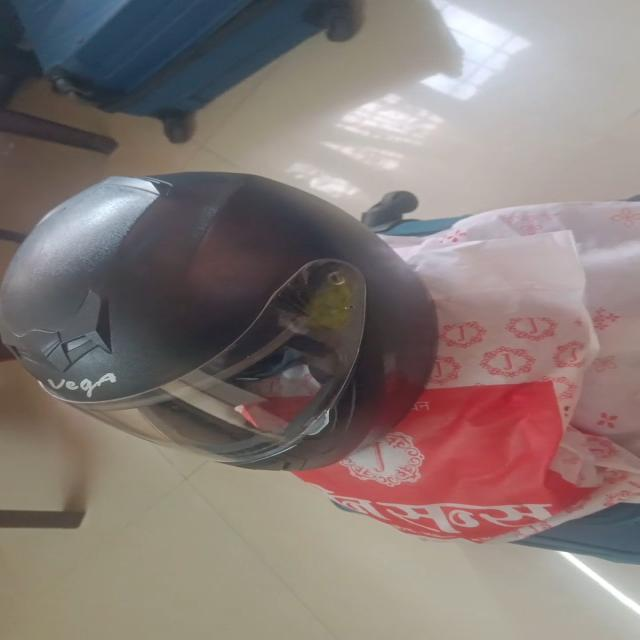Helmet: (2, 172, 438, 470)
